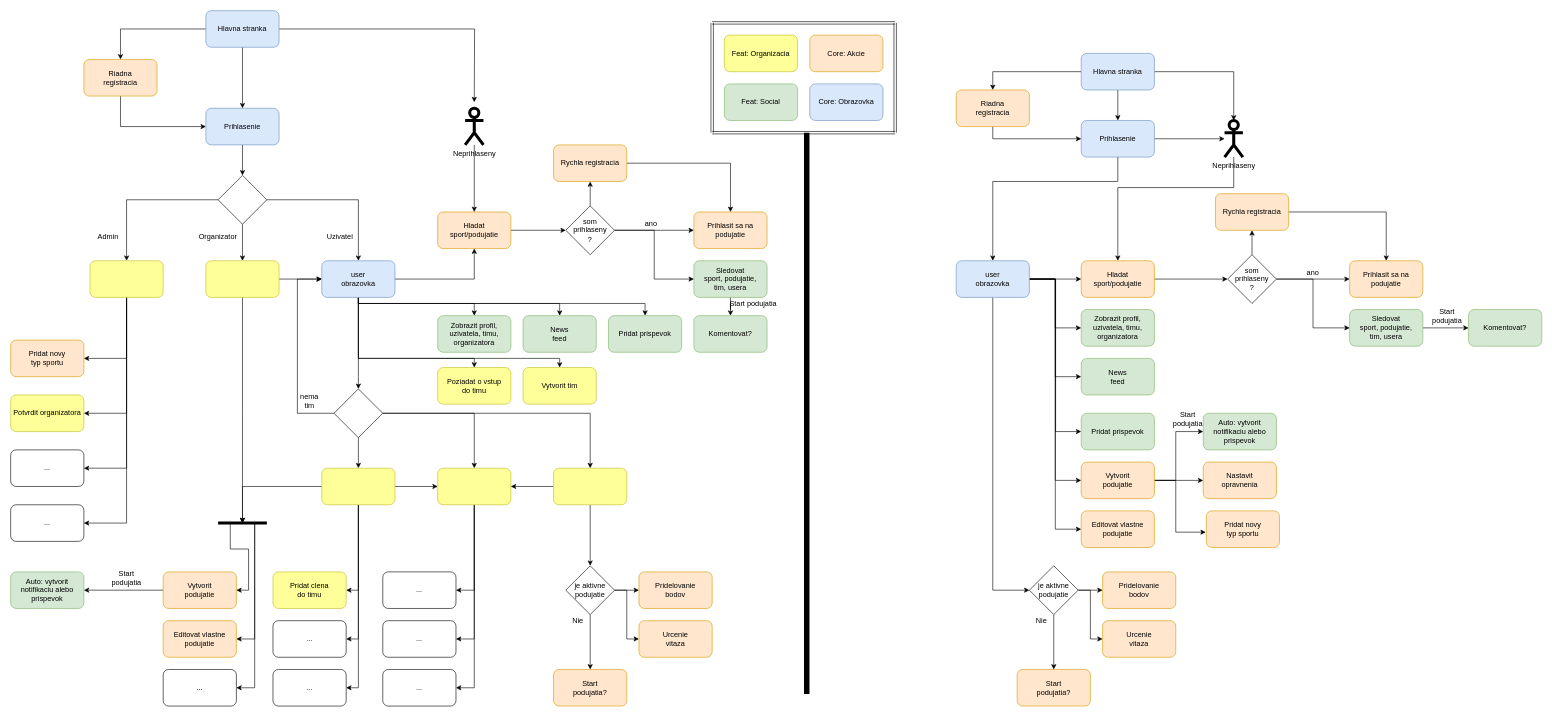
Image size: 1552x717. Some labels were removed from this diagram. The box of each missing label's shape, as (x1, y1, x2, y2) in pixels:
admin obrazovka: (89, 260, 163, 297)
Clen obrazovka: (437, 468, 511, 505)
Kapitan obrazovka: (321, 468, 395, 505)
organizator obrazovka: (205, 260, 279, 297)
overenie roly: (217, 175, 267, 224)
overenie uzivatelskej roly: (333, 388, 383, 438)
Rozhodca obrazovka: (553, 468, 627, 505)
